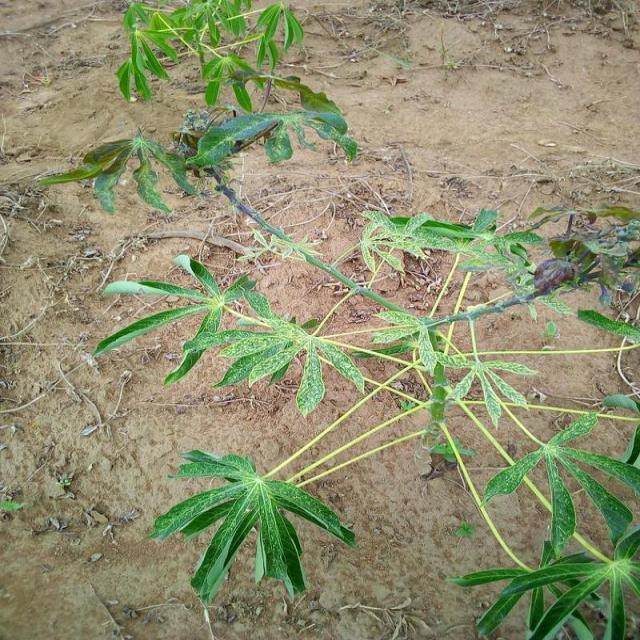cassava leaf: (149, 447, 359, 606)
